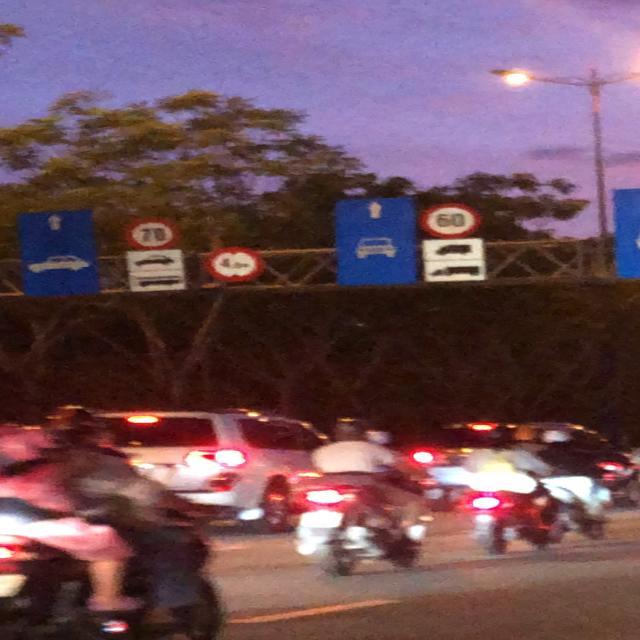Bien bao han che chieu cao: (197, 245, 274, 286)
Bien bao toc do toi da cho phep: (411, 200, 486, 243), (123, 216, 188, 255)
